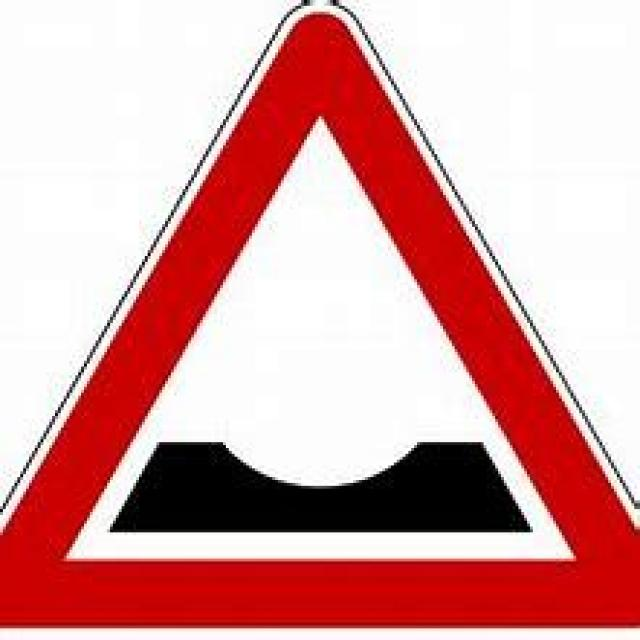DANGEROUS_DIP: (0, 0, 637, 625)
